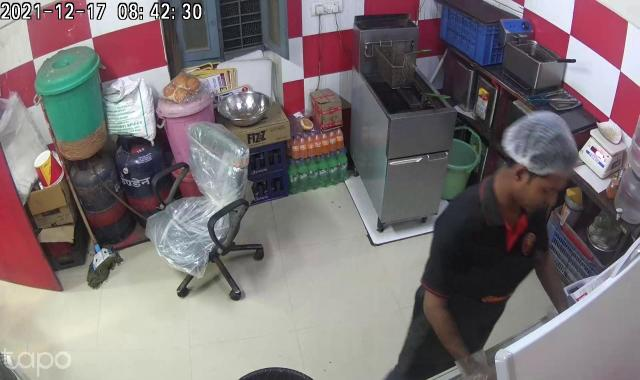hairnet: (502, 110, 580, 178)
